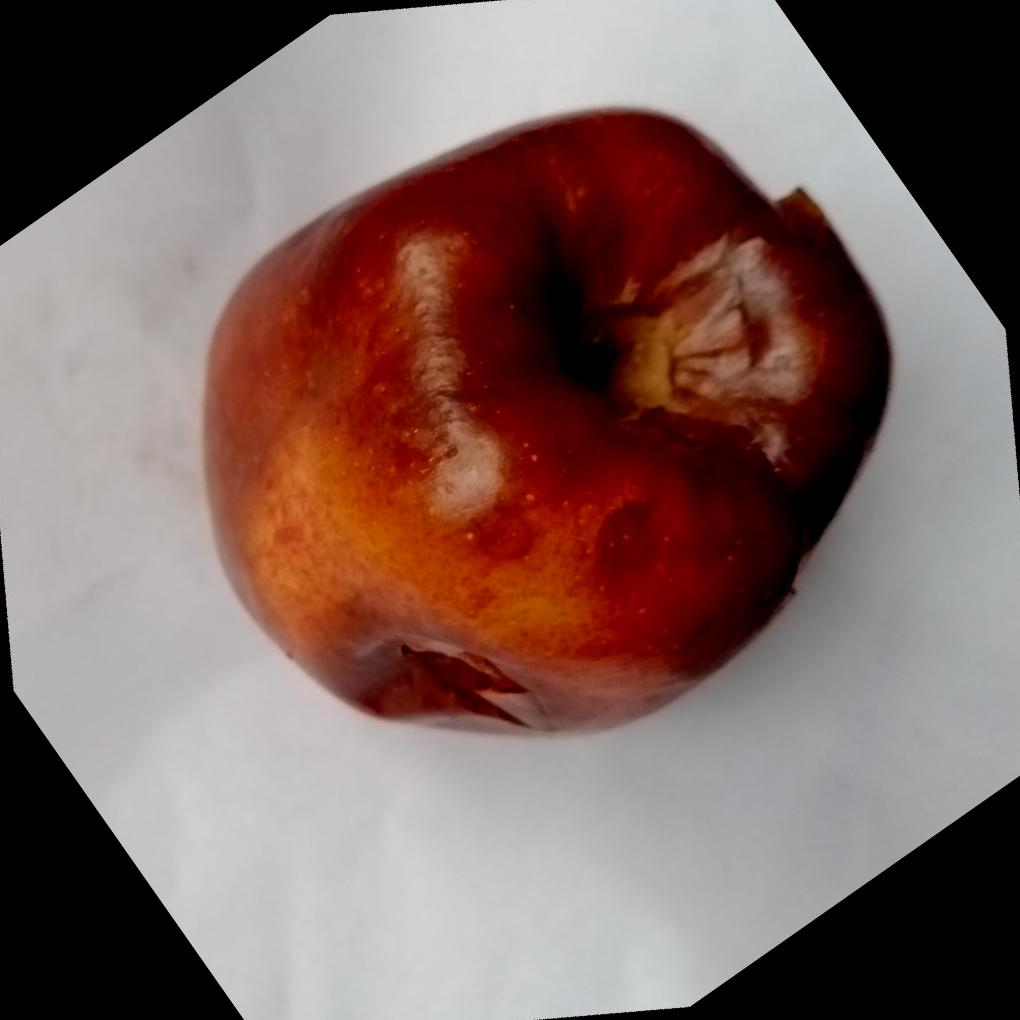FreshOrange: (201, 103, 896, 739)
